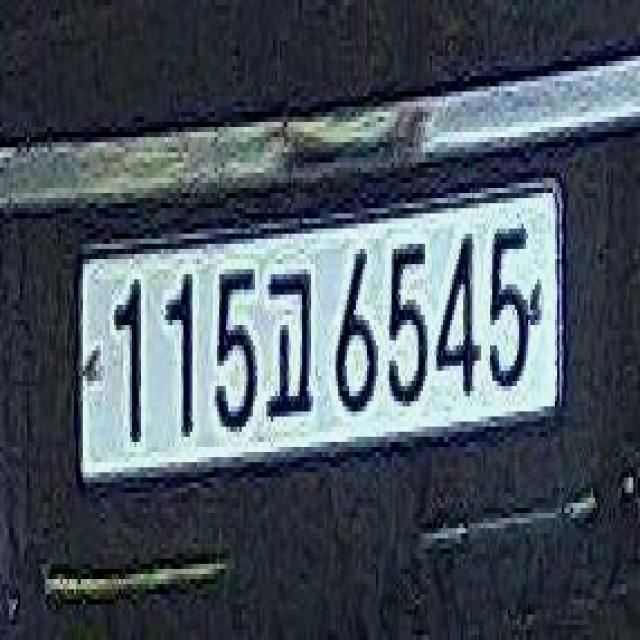illegal_plate: (76, 175, 562, 488)
